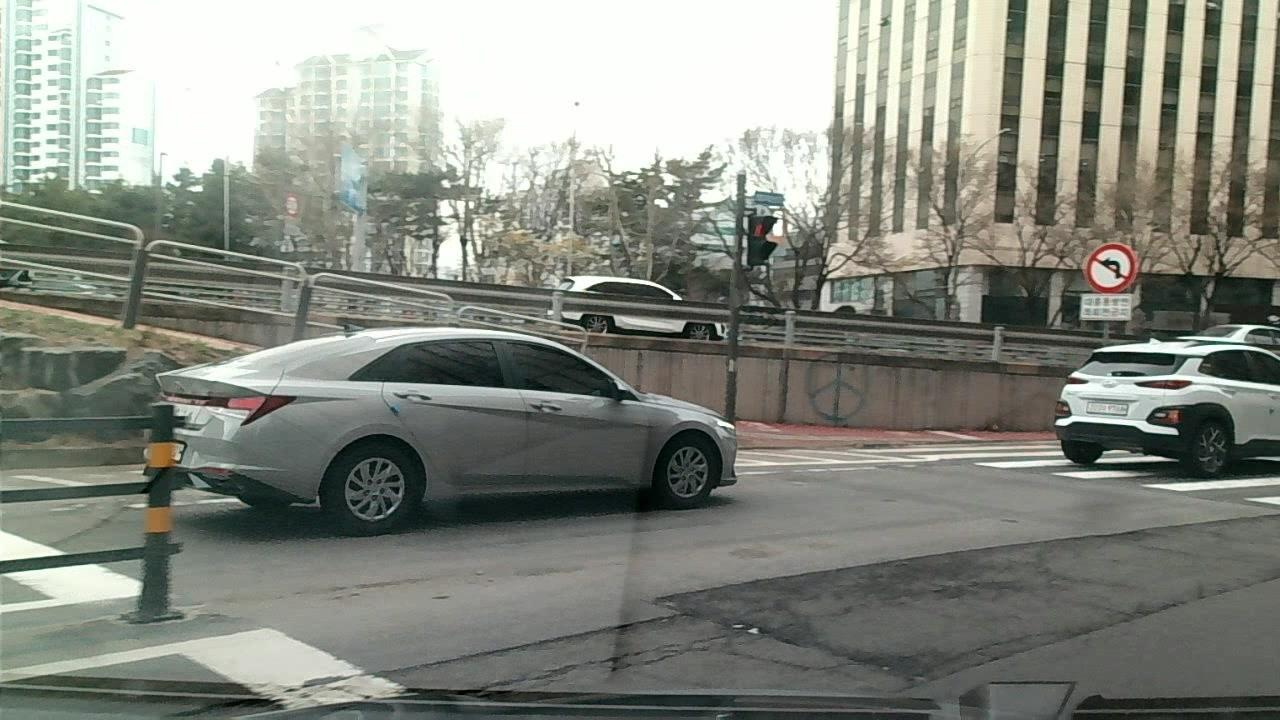erosion: (237, 604, 916, 717)
vcrack: (889, 521, 1179, 564), (1080, 575, 1280, 632), (659, 560, 880, 600), (914, 632, 1077, 682), (1181, 504, 1280, 530)
